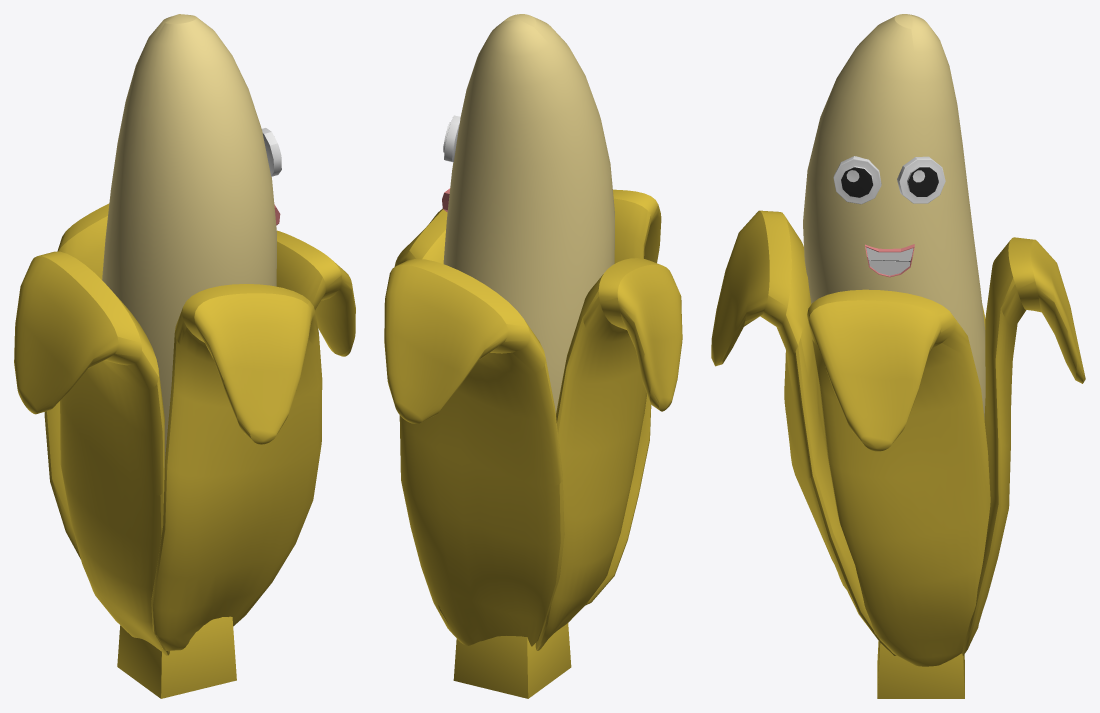
File: banana.fbx
The picture shows the model from 3 angles, left to right: view 1: azimuth 30°, elevation 25°; view 2: azimuth 150°, elevation 25°; view 3: azimuth 270°, elevation 25°; orthographic projection.
Visible parts, largest first — view 1: Cube; view 2: Cube; view 3: Cube.
Part boxes in pixels (x1,y1,x2,y2): Cube: [14, 14, 355, 698]; Cube: [384, 14, 682, 698]; Cube: [711, 14, 1085, 698].
Size of the model in its own units: 412 by 872 by 447.
